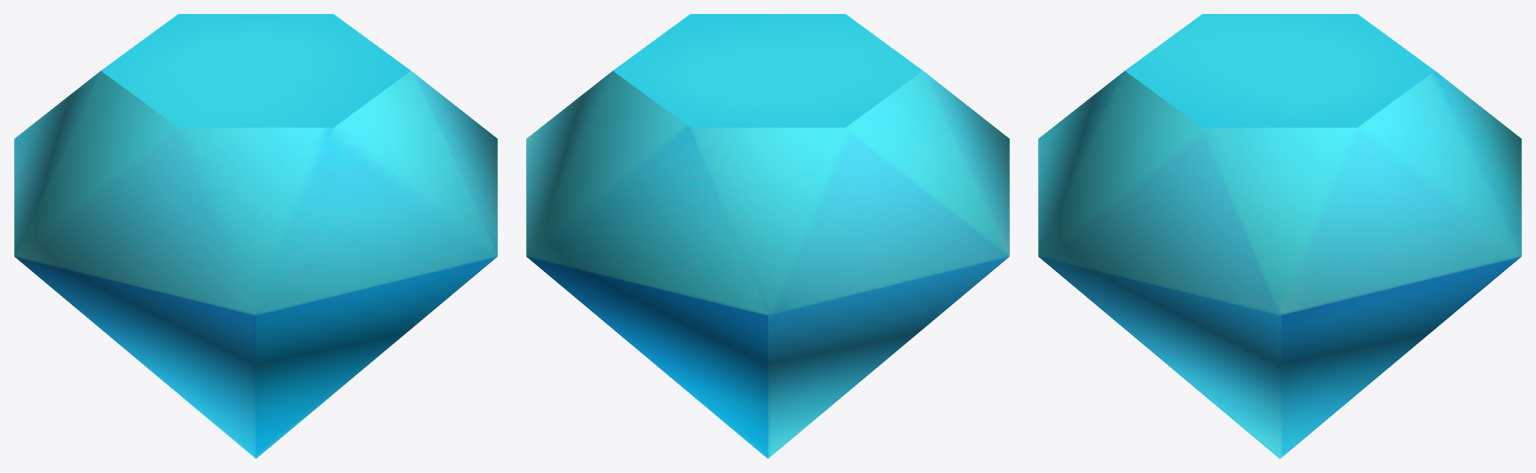
The model's file is diamond01.fbx.
The picture shows the model from 3 angles, left to right: view 1: azimuth 30°, elevation 25°; view 2: azimuth 150°, elevation 25°; view 3: azimuth 270°, elevation 25°; orthographic projection.
Parts seen in each view (by area): view 1: Cylinder002; view 2: Cylinder002; view 3: Cylinder002.
Boxes of the visible parts, box(x1,y1,x2,y2) form: Cylinder002: box(14, 14, 497, 458); Cylinder002: box(526, 14, 1009, 458); Cylinder002: box(1038, 14, 1521, 458).
Size of the model in its own units: 24.18 by 18.56 by 20.94.
